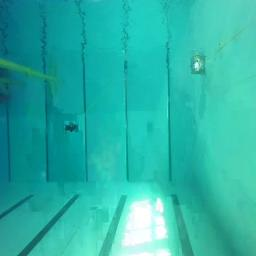front: (62, 120, 80, 131), (190, 62, 206, 73)
